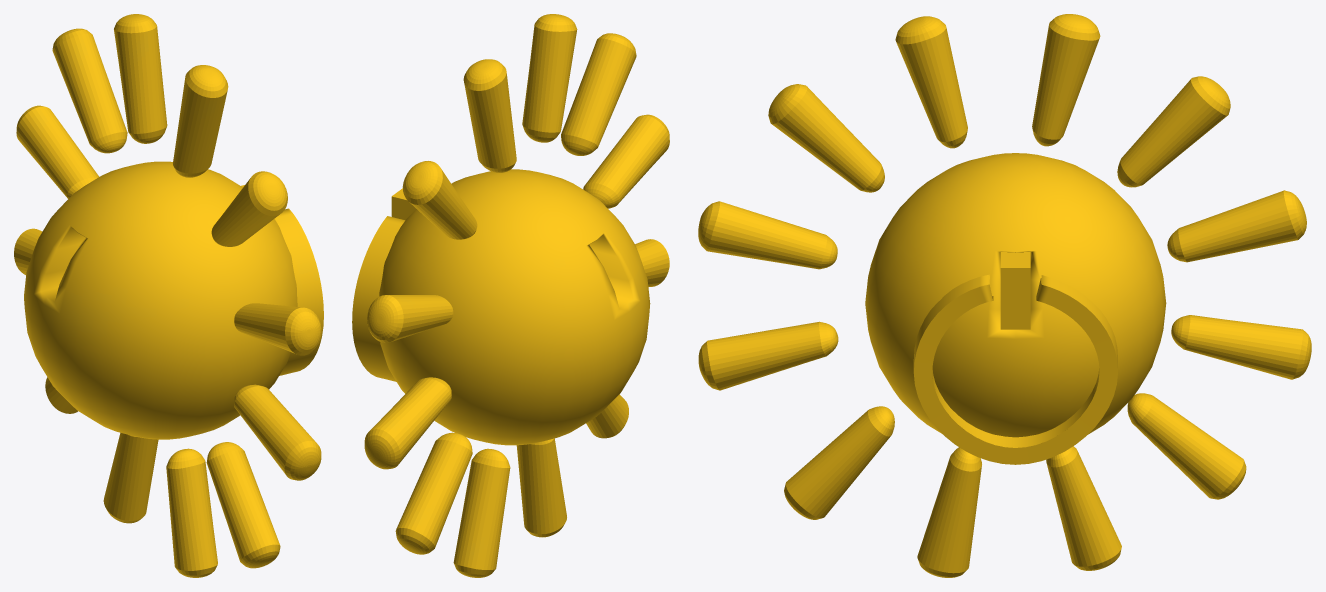
File: 7_goal.glb
The picture shows the model from 3 angles, left to right: view 1: azimuth 30°, elevation 25°; view 2: azimuth 150°, elevation 25°; view 3: azimuth 270°, elevation 25°; orthographic projection. The views are drawn at different scales.
Parts seen in each view (by area): view 1: Sphere, Cylinder, BezierCurve; view 2: Sphere, Cylinder, BezierCurve, Cube; view 3: Cylinder, Sphere, BezierCurve, Cube.
Part boxes in pixels (<box>): Sphere: <box>24,161,297,439</box>; Cylinder: <box>14,14,321,577</box>; BezierCurve: <box>274,208,323,375</box>; Sphere: <box>379,169,650,445</box>; Cylinder: <box>364,14,669,577</box>; BezierCurve: <box>352,216,405,381</box>; Cube: <box>391,188,415,219</box>; Cylinder: <box>698,14,1311,577</box>; Sphere: <box>865,153,1166,437</box>; BezierCurve: <box>913,274,1117,464</box>; Cube: <box>1000,252,1030,329</box>.
Bounding box in the file's own units: 2 × 4.09 × 4.08.
Materials: 1 (1 with a texture image).
